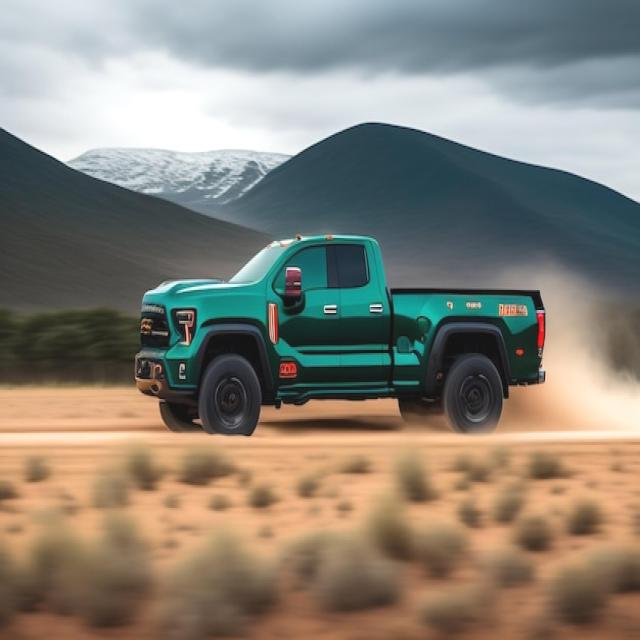CMT: (138, 233, 551, 437)
